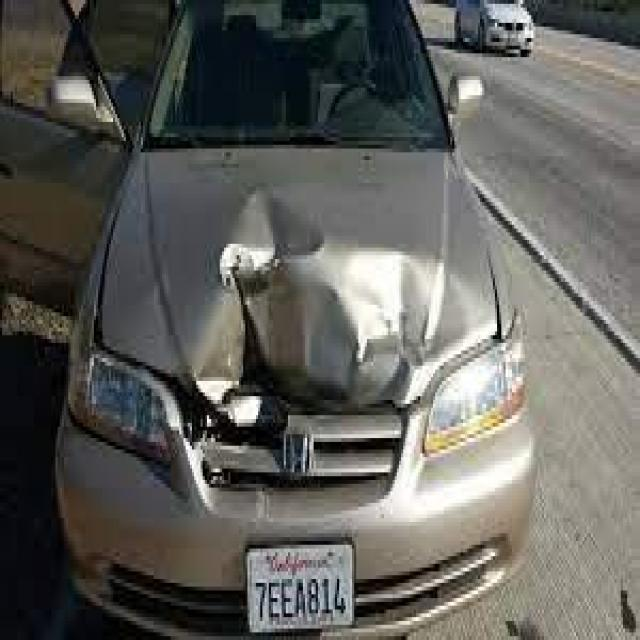damaged: (172, 182, 468, 496)
